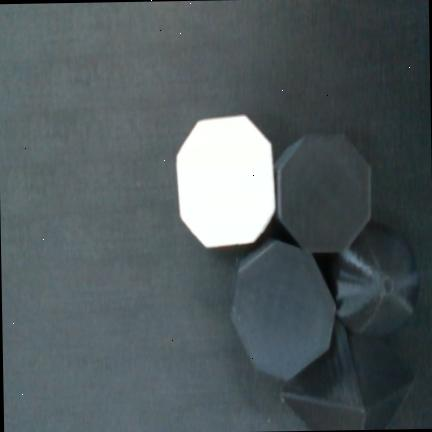Esfera: (323, 221, 420, 337)
Piramide: (276, 316, 418, 429)
Prisma_hexagonal: (229, 240, 337, 381), (175, 113, 276, 249), (274, 133, 371, 251)
